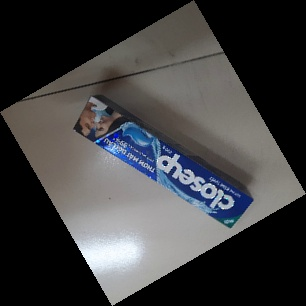CloseUp Tuyet: (72, 95, 255, 229)
